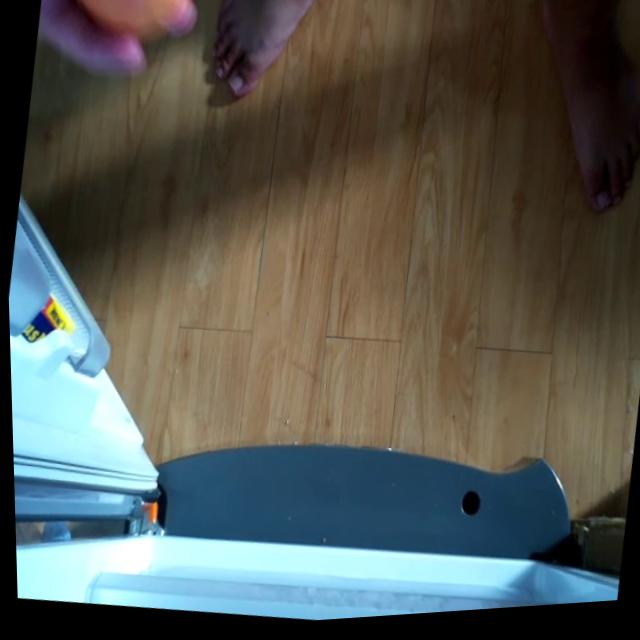apple: (51, 0, 200, 48)
